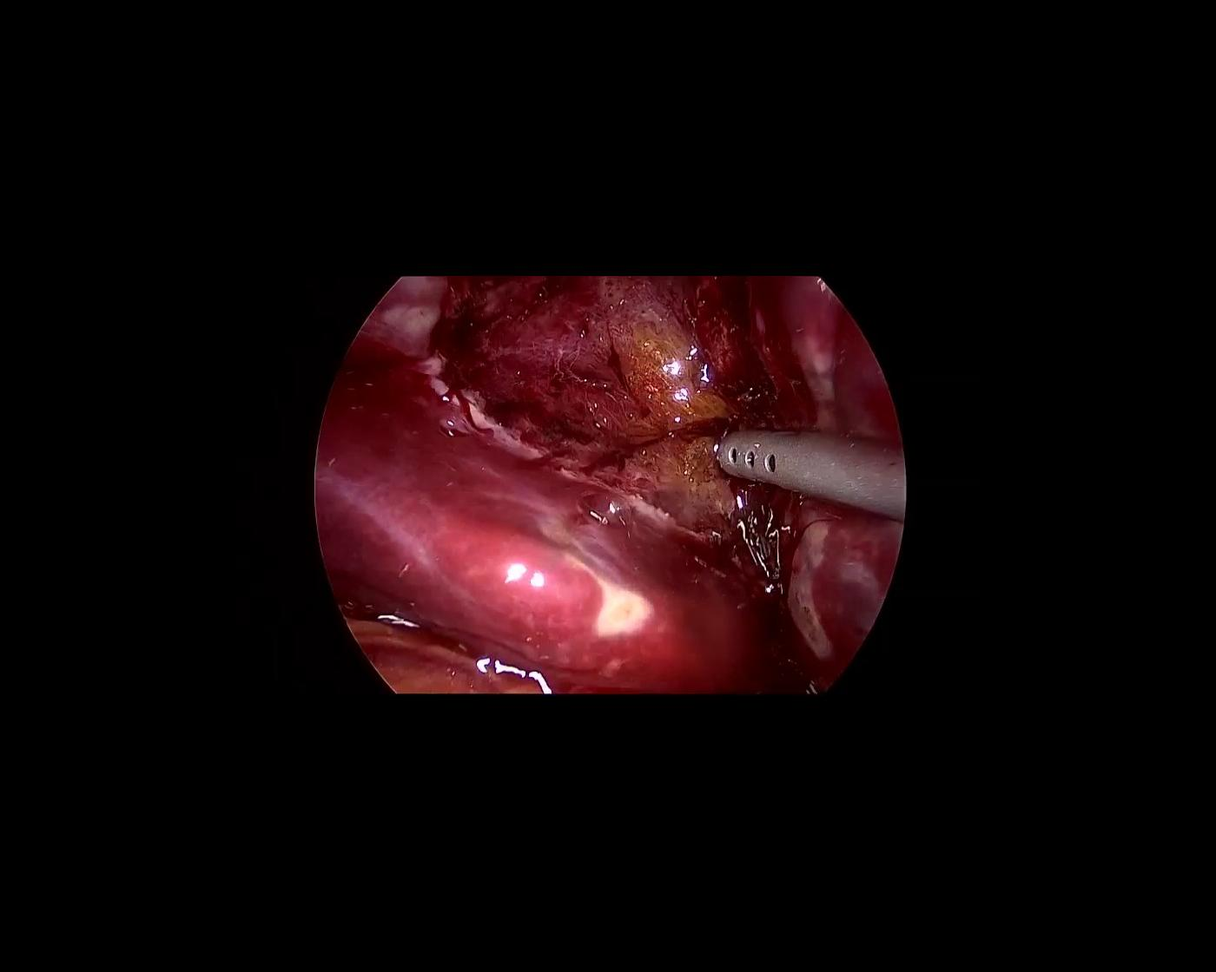Liver: (236, 330, 820, 823), (752, 276, 905, 693)
Suction: (713, 428, 911, 522)
